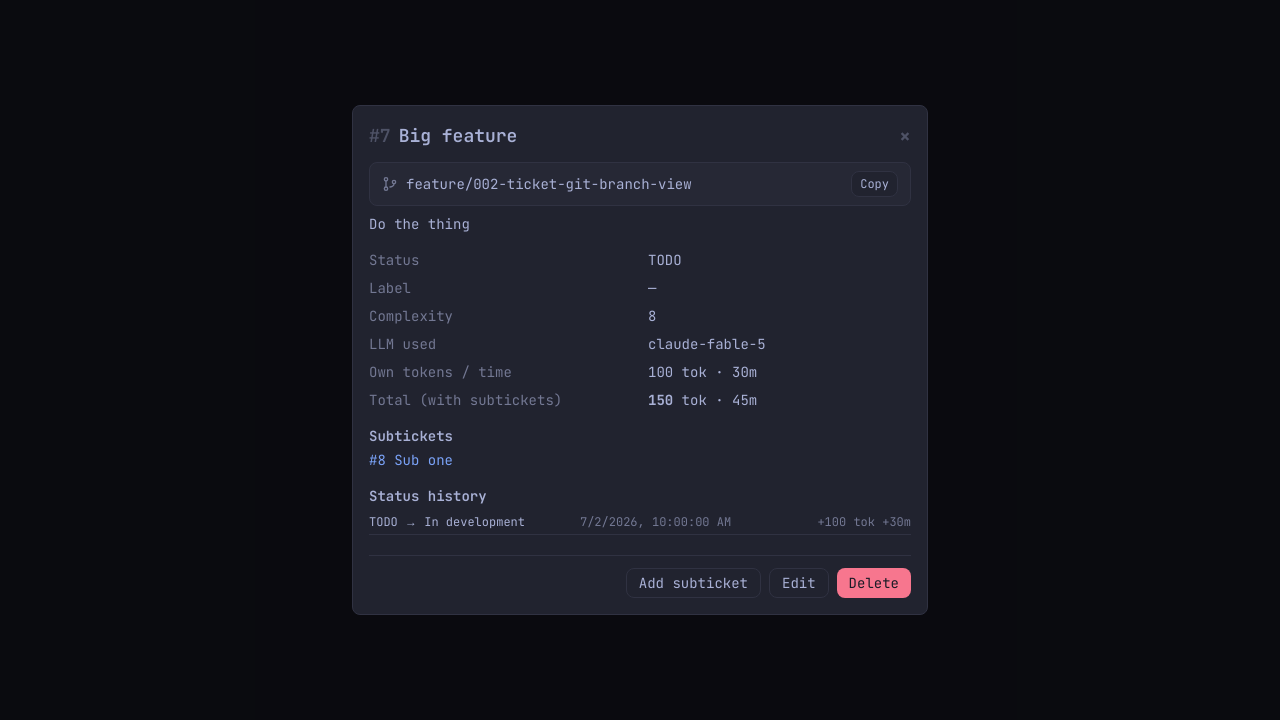
Scenario: TicketDetailModal › navigates into a subticket and back to the parent
Expected: the heading "#7Big feature" is shown, [369,122,517,150]
Click the button "#8 Sub one".
click(411, 460)  # box [369,450,453,470]
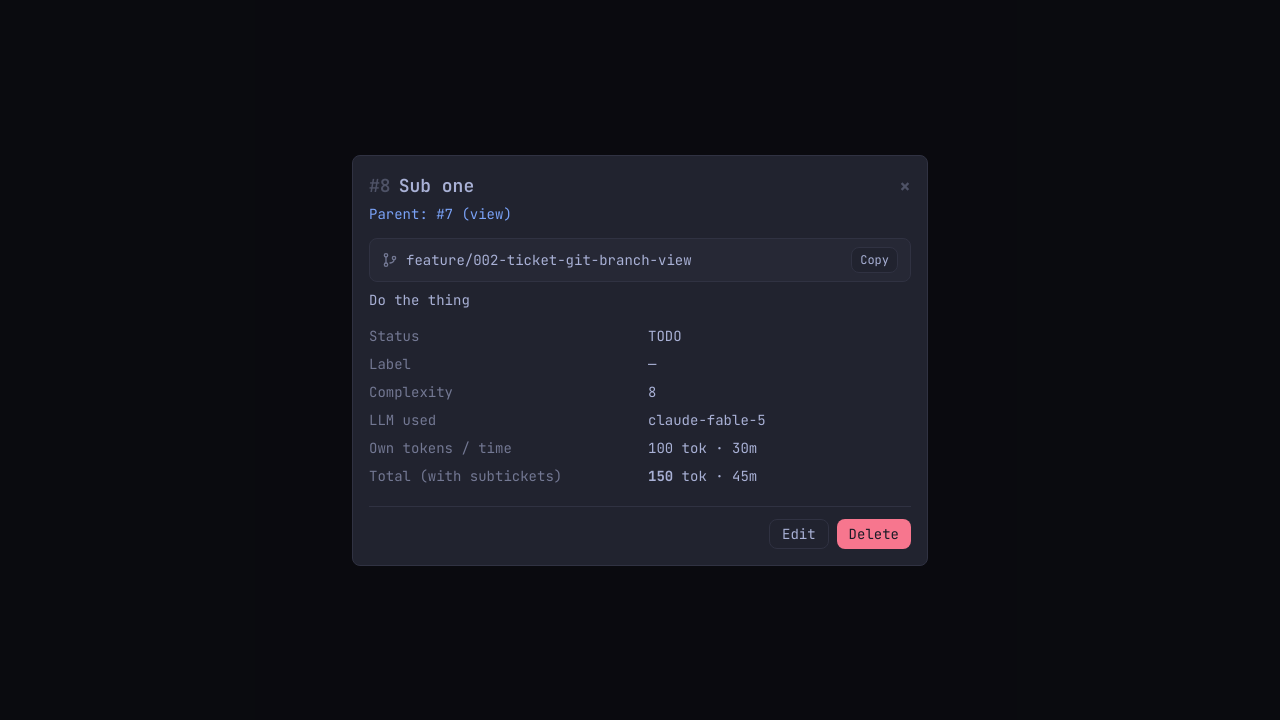
Result: the text "#8" is shown at [369,174,391,196]
Result: the heading "Big feature" is gone
Click the button "Parent: #7 (view)".
click(440, 214)  # box [369,204,512,224]
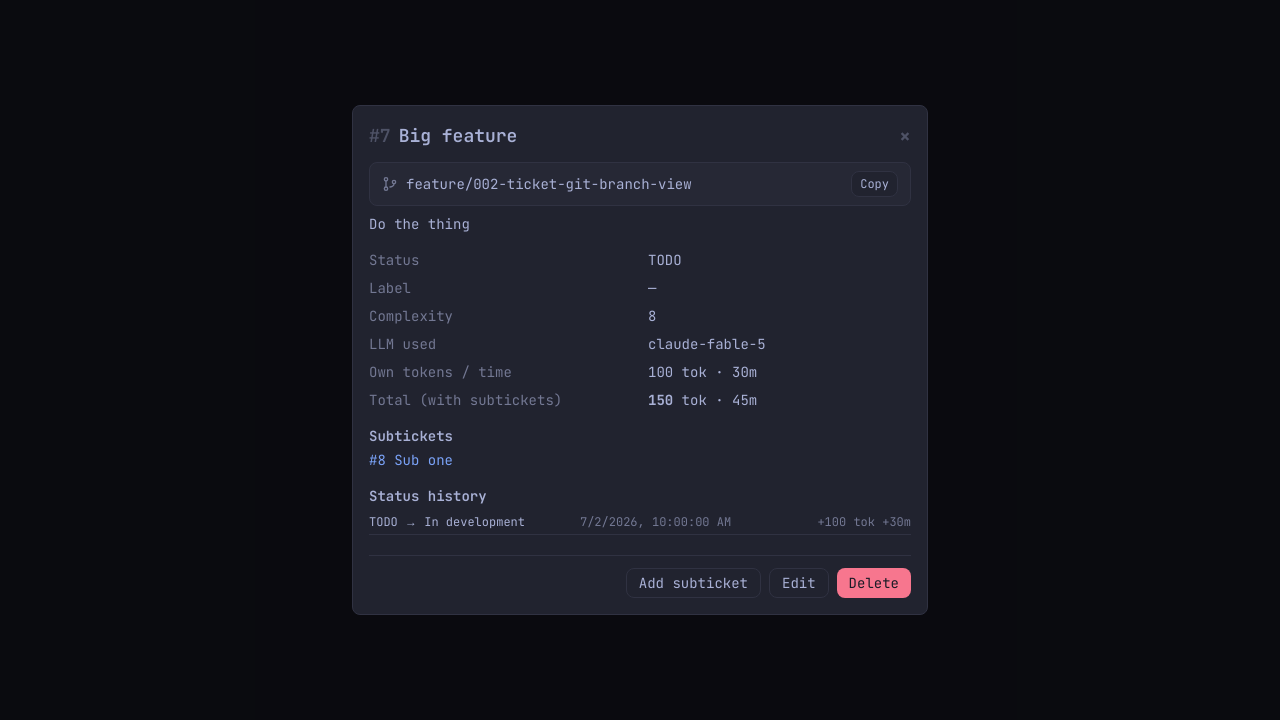
Result: the heading "#7Big feature" is shown at [369,122,517,150]
Result: the button "Parent:" is gone
